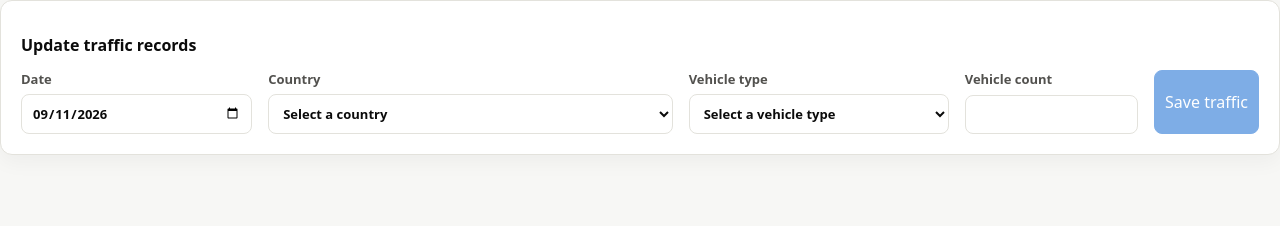
Test: RecordTrafficForm › clears a finished result when the record changes
Select "United States" in the dropdown labelled "Country" at [470, 114], box [268,94,673,134]
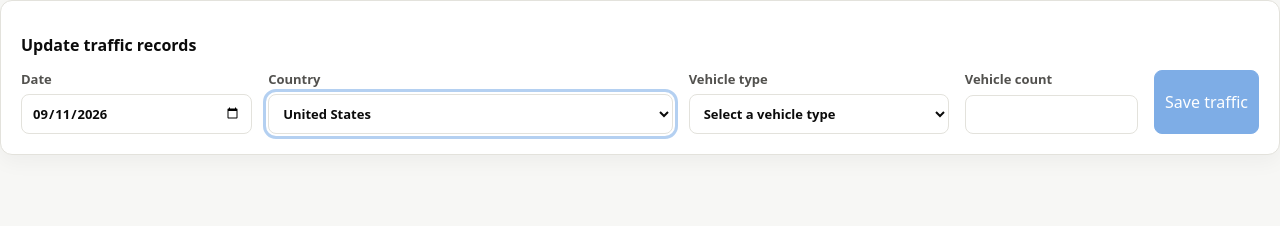
Select "Car" in the dropdown labelled "Vehicle type" at [819, 114], box [689,94,949,134]
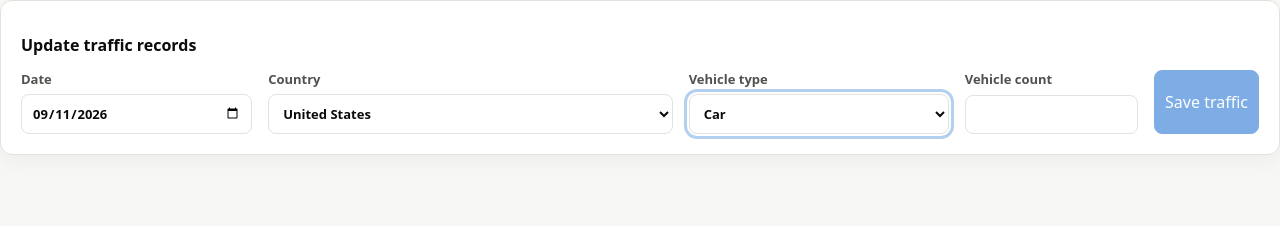
Type "120" into the number field labelled "Vehicle count".
click(1051, 114); type("120")  # box [965,94,1138,134]
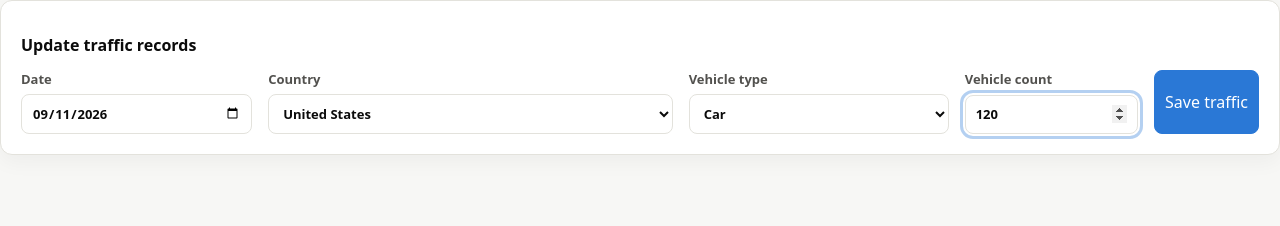
Click the button "Save traffic".
click(1207, 102)  # box [1154,70,1259,134]
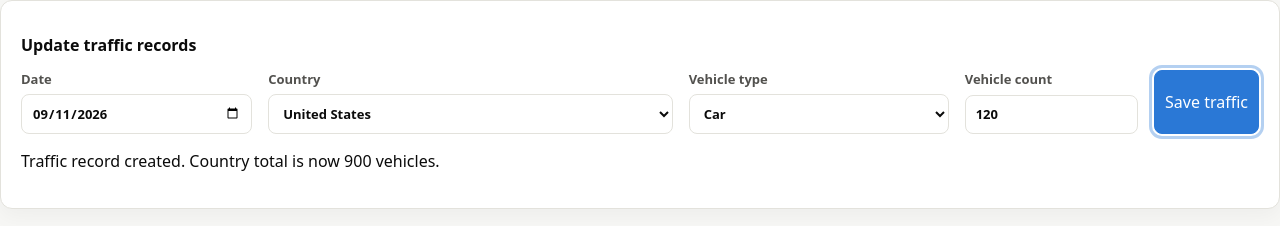
Check: the message "Traffic record created. Country total is now 900 vehicles." is shown, box [21,150,440,172]
Select "Truck" in the dropdown labelled "Vehicle type" at [819, 114], box [689,94,949,134]
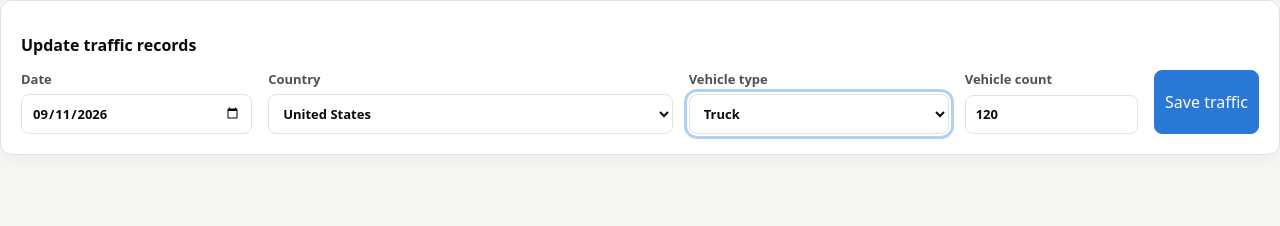
Check: the message "Traffic record created. Country total is now 900 vehicles." is gone
